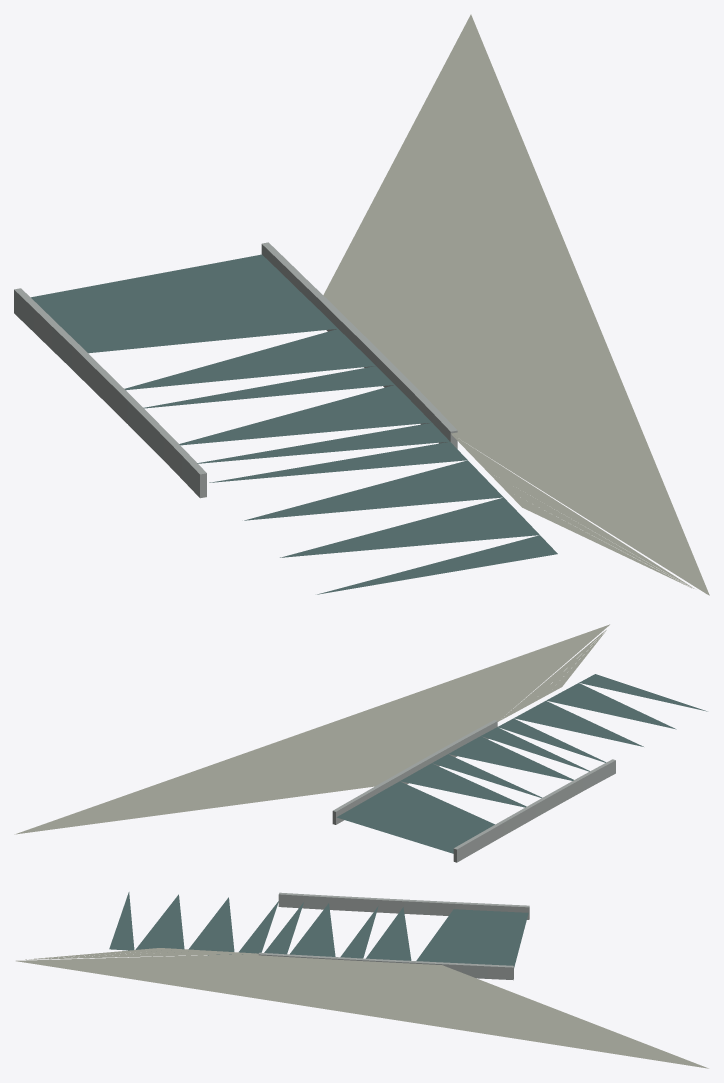
File: street_9_0.glb
3 renders of one model, top to bottom at view 1: azimuth 30°, elevation 25°; view 2: azimuth 150°, elevation 25°; view 3: azimuth 270°, elevation 25°, orthographic. The views are drawn at different scales.
Parts seen in each view (by area): view 1: ground.001, water.001, graybrick.068; view 2: ground.001, water.001, graybrick.068; view 3: ground.001, water.001, graybrick.068.
Boxes of the visible parts, x1,y1,x2,y2 form: ground.001: [323, 14, 709, 595]; water.001: [31, 254, 557, 594]; graybrick.068: [14, 242, 457, 498]; ground.001: [14, 624, 609, 834]; water.001: [336, 674, 707, 853]; graybrick.068: [332, 720, 615, 862]; ground.001: [16, 948, 708, 1068]; water.001: [109, 892, 528, 967]; graybrick.068: [258, 892, 529, 980].
Size of the model in its own units: 34.06 by 1.1 by 54.96.
